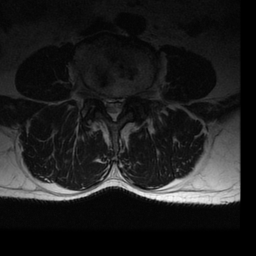CCS_normal: (110, 91, 117, 127)
LFS_severe_stenosis: (126, 89, 134, 107)
LLS_normal: (117, 90, 125, 113)
RFS_stenosis: (94, 86, 102, 108)
RLS_normal: (103, 91, 110, 112)
